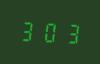three: (18, 18, 37, 43), (59, 20, 78, 45)
zero: (39, 19, 58, 44)
